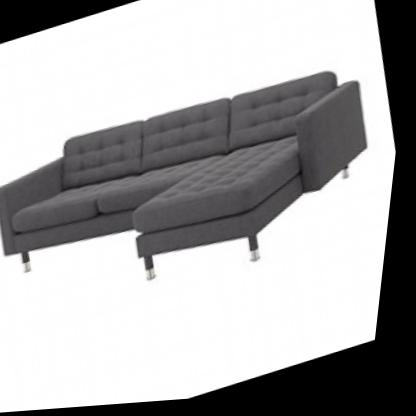Sofa: (0, 34, 405, 346)
